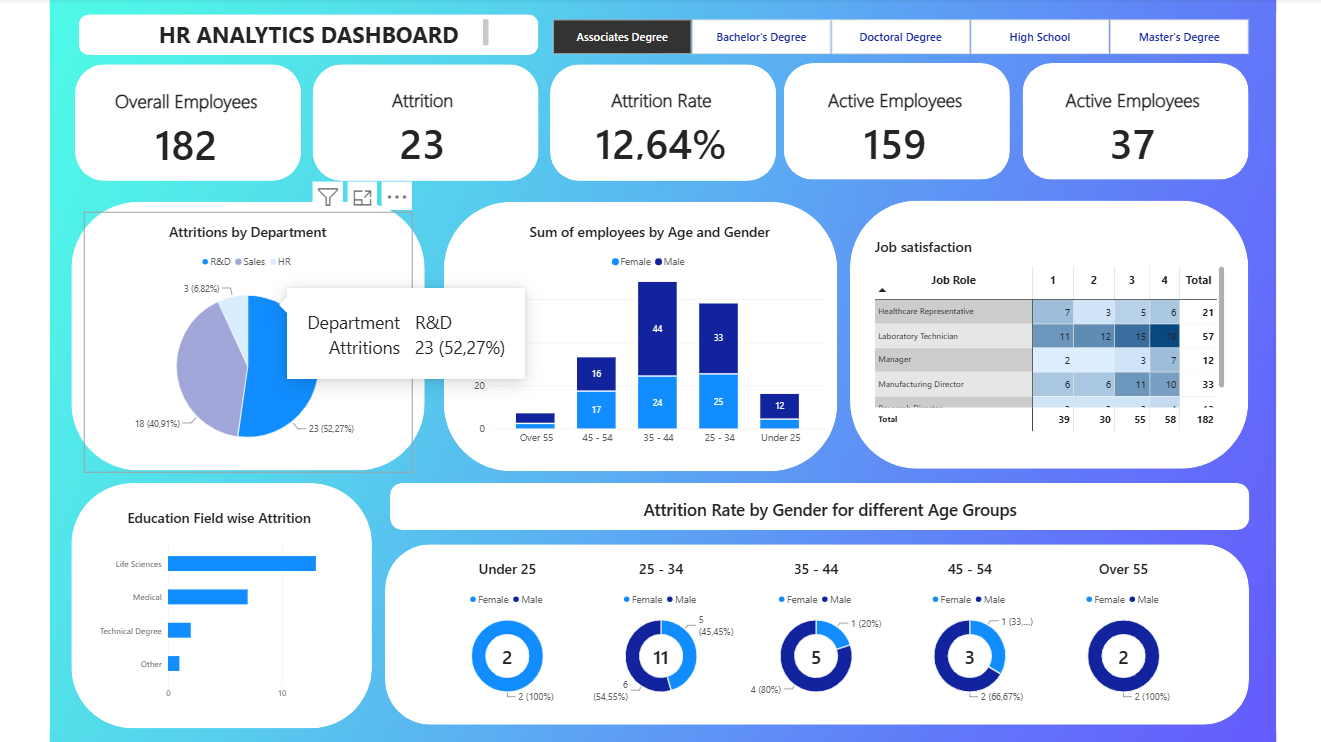

This screenshot's page, from the dashboard's own definition file:
{"tool":"powerbi","page":{"name":"Page 1","canvas":[1920,1080],"ordinal":0},"visuals":[{"type":"shape","box":[1230.9,292.9,576.7,388.5],"z":0},{"type":"shape","box":[108.9,96,327.5,169],"z":1000},{"type":"card","title":"Overall Employees","fields":{"Values":["Sum(HR Data xlsx - HR data.Employee Count)"]},"box":[128,115.2,282.3,135.9],"z":2000},{"type":"shape","box":[451.6,95.6,327.5,169],"z":3000},{"type":"card","title":"Attrition","fields":{"Values":["Sum(HR Data xlsx - HR data.Attrition Count)"]},"box":[470.8,114.7,282.3,135.9],"z":4000},{"type":"shape","box":[796.2,95.1,327.5,169],"z":5000},{"type":"card","title":"Attrition Rate","fields":{"Values":["Measure.Attrition Rate"]},"box":[815.3,114.3,282.3,135.9],"z":6000},{"type":"shape","box":[1135.4,94.7,327.5,169],"z":7000},{"type":"card","title":"Active Employees","fields":{"Values":["Measure.Active Employees"]},"box":[1154.6,113.8,282.3,135.9],"z":8000},{"type":"shape","box":[1480,94.2,327.5,169],"z":9000},{"type":"card","title":"Active Employees","fields":{"Values":["Measure.AVG age"]},"box":[1499.1,113.4,282.3,135.9],"z":10000},{"type":"shape","box":[104,295.1,511.8,389.1],"z":11000},{"type":"pieChart","fields":{"Category":["HR Data xlsx - HR data.Department"],"Y":["Measure.Attritions"]},"box":[122,310.1,474.4,377.1],"z":12000},{"type":"shape","box":[642,294.6,569.7,390.3],"z":13000},{"type":"columnChart","title":"Sum of employees by Age and Gender","fields":{"Category":["HR Data xlsx - HR data.CF_age band"],"Series":["HR Data xlsx - HR data.Gender"],"Y":["Measure.Tot employees"]},"box":[669.7,310.1,541.7,357.7],"z":14000},{"type":"pivotTable","title":"Job satisfaction","fields":{"Columns":["HR Data xlsx - HR data.Job Satisfaction"],"Rows":["HR Data xlsx - HR data.Job Role"],"Values":["Measure.Tot employees"]},"box":[1250.1,331.2,538.4,311.9],"z":15000},{"type":"shape","box":[102.8,702.9,435.6,355.4],"z":16000},{"type":"clusteredBarChart","title":"Education Field wise Attrition","fields":{"Category":["HR Data xlsx - HR data.Education Field"],"Y":["Measure.Attritions"]},"box":[121.9,723.8,392,311.9],"z":17000},{"type":"shape","box":[557.5,790.1,1251,261.3],"z":18000},{"type":"donutChart","title":"Under 25","fields":{"Category":["HR Data xlsx - HR data.Gender"],"Series":["HR Data xlsx - HR data.CF_age band"],"Y":["Measure.Attritions"]},"box":[588.6,798.8,292.7,238.7],"z":19000},{"type":"donutChart","title":"25 - 34","fields":{"Category":["HR Data xlsx - HR data.Gender"],"Series":["HR Data xlsx - HR data.CF_age band"],"Y":["Measure.Attritions"]},"box":[811.6,798.8,292.7,238.7],"z":20000},{"type":"donutChart","title":"35 - 44","fields":{"Category":["HR Data xlsx - HR data.Gender"],"Series":["HR Data xlsx - HR data.CF_age band"],"Y":["Measure.Attritions"]},"box":[1034.6,798.8,292.7,238.7],"z":21000},{"type":"donutChart","title":"45 - 54","fields":{"Category":["HR Data xlsx - HR data.Gender"],"Series":["HR Data xlsx - HR data.CF_age band"],"Y":["Measure.Attritions"]},"box":[1257.6,798.8,292.7,238.7],"z":22000},{"type":"donutChart","title":"Over 55","fields":{"Category":["HR Data xlsx - HR data.Gender"],"Series":["HR Data xlsx - HR data.CF_age band"],"Y":["Measure.Attritions"]},"box":[1480.6,798.8,292.7,238.7],"z":23000},{"type":"shape","box":[564.5,702.9,1244,67.9],"z":24000},{"type":"textbox","box":[595.8,723.8,1212.6,47],"z":25000},{"type":"shape","box":[113.2,22.6,665.6,59.2],"z":26000},{"type":"textbox","box":[193.4,31.4,514,40.1],"z":27000},{"type":"slicer","fields":{"Values":["HR Data xlsx - HR data.Education"]},"box":[779.7,28.4,1046,53.9],"z":27001},{"type":"shape","box":[0,0,72.1,1059.9],"z":27002},{"type":"shape","box":[1847.4,0,72.1,1059.9],"z":27003},{"type":"shape","box":[0,21.4,72.1,1059.9],"z":27004},{"type":"shape","box":[1847.4,21.4,72.1,1059.9],"z":27005}]}

Visuals, with their boxes in screenshot pixels (x1, y1, x2, y2), scaled from the page's 1920x1080 canvas onto the 1321x742 screenshot:
shape: 847 201 1244 468
shape: 75 66 300 182
"Overall Employees" card: 88 79 282 173
shape: 311 66 536 182
"Attrition" card: 324 79 518 172
shape: 548 65 773 181
"Attrition Rate" card: 561 79 755 172
shape: 781 65 1007 181
"Active Employees" card: 794 78 989 172
shape: 1018 65 1244 181
"Active Employees" card: 1031 78 1226 171
shape: 72 203 424 470
pieChart - HR Data xlsx - HR data.Department x Measure.Attritions: 84 213 410 472
shape: 442 202 834 471
"Sum of employees by Age and Gender" columnChart: 461 213 833 459
"Job satisfaction" pivotTable: 860 228 1231 442
shape: 71 483 370 727
"Education Field wise Attrition" clusteredBarChart: 84 497 354 712
shape: 384 543 1244 722
"Under 25" donutChart: 405 549 606 713
"25 - 34" donutChart: 558 549 760 713
"35 - 44" donutChart: 712 549 913 713
"45 - 54" donutChart: 865 549 1067 713
"Over 55" donutChart: 1019 549 1220 713
shape: 388 483 1244 530
textbox: 410 497 1244 530
shape: 78 16 536 56
textbox: 133 22 487 49
slicer - HR Data xlsx - HR data.Education: 536 20 1256 57
shape: 0 0 50 728
shape: 1271 0 1320 728
shape: 0 15 50 741
shape: 1271 15 1320 741
